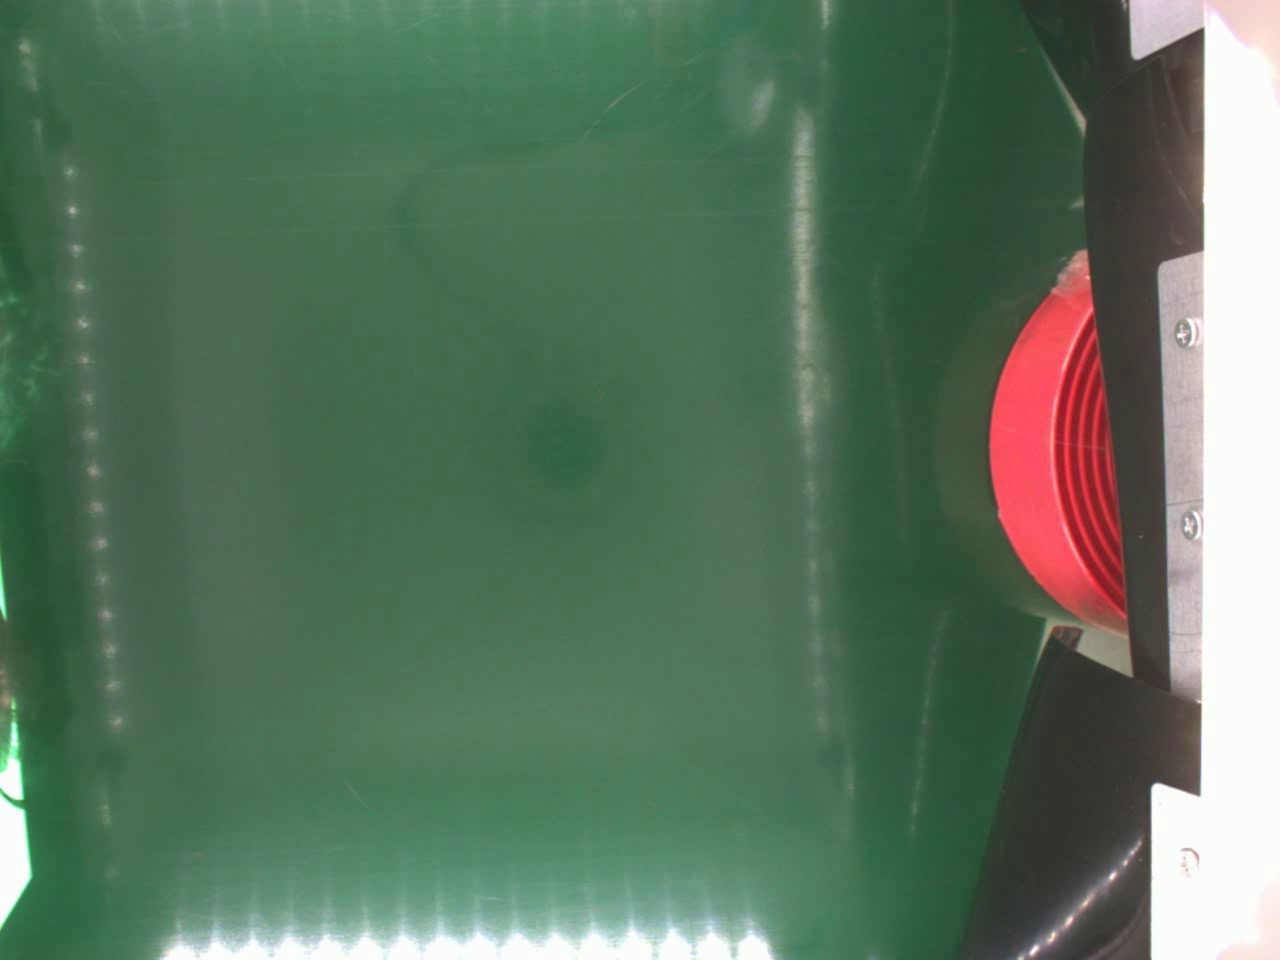red: (987, 255, 1133, 634)
